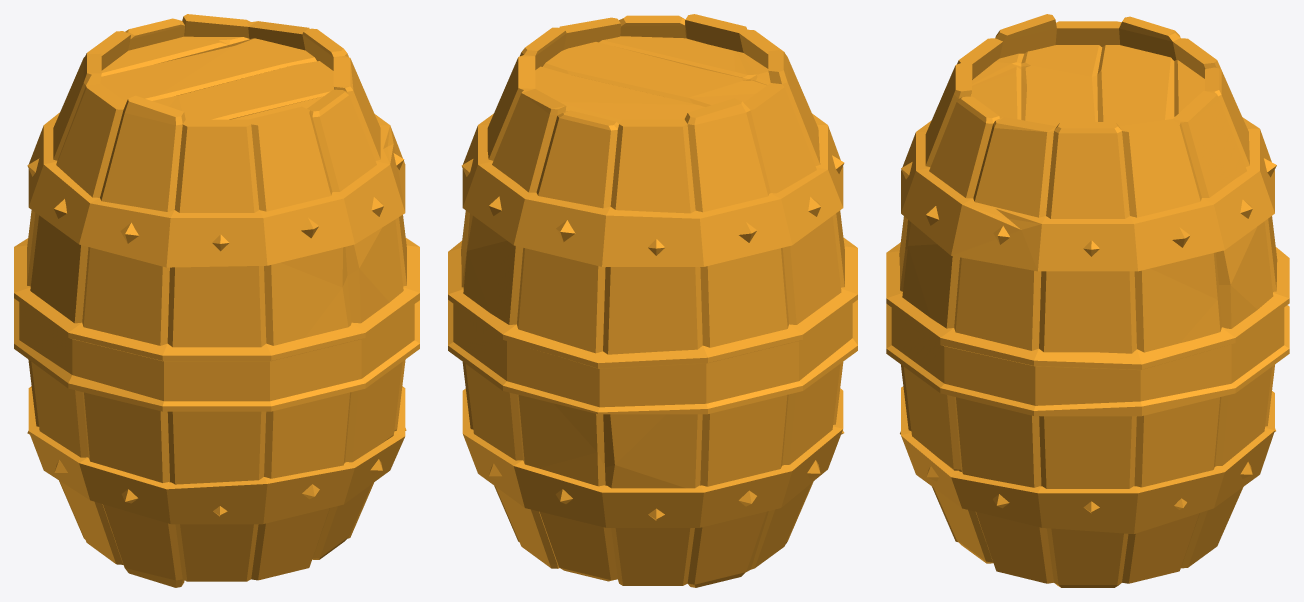
The model's file is SM_Barrel_Wood_A_Closed_A_Fantasy.fbx.
3 views of the same model, side by side, from view 1: azimuth 30°, elevation 25°; view 2: azimuth 150°, elevation 25°; view 3: azimuth 270°, elevation 25° (orthographic).
Visible parts, largest first — view 1: barrel-wood-a-closed-a-fantasy; view 2: barrel-wood-a-closed-a-fantasy; view 3: barrel-wood-a-closed-a-fantasy.
Part boxes in pixels (x1,y1,x2,y2): barrel-wood-a-closed-a-fantasy: (14, 14, 419, 587); barrel-wood-a-closed-a-fantasy: (448, 14, 857, 587); barrel-wood-a-closed-a-fantasy: (886, 14, 1289, 587).
Size of the model in its own units: 0.9918 by 1.28 by 0.9918.
